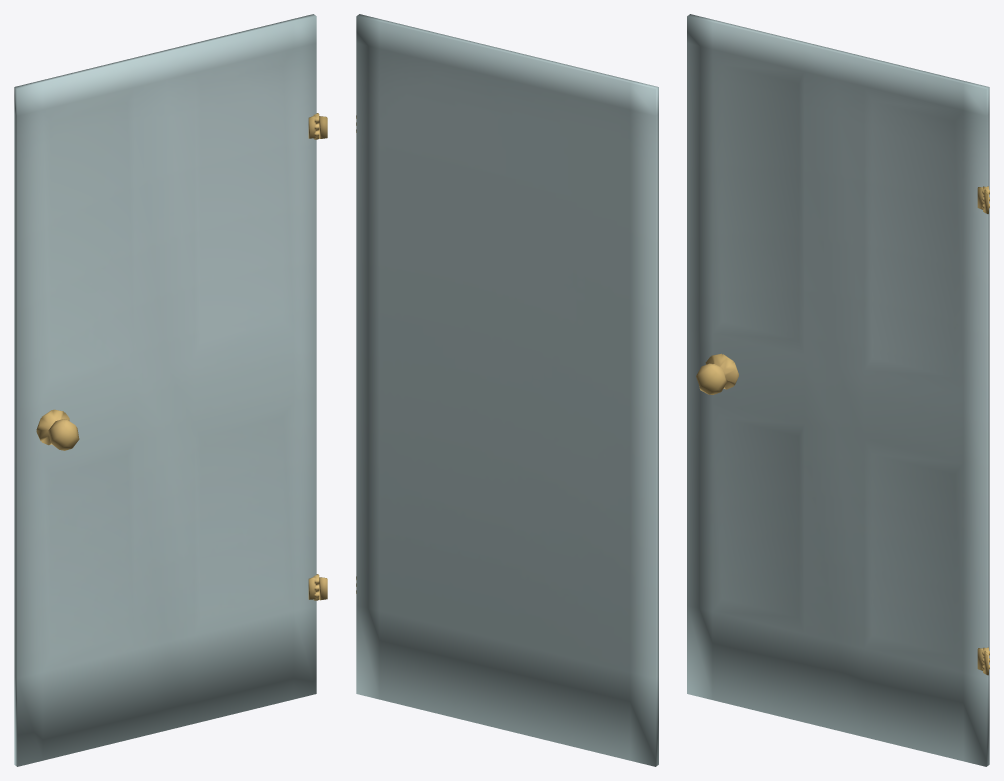
The model's file is Door.fbx.
The picture shows the model from 3 angles, left to right: view 1: azimuth 30°, elevation 25°; view 2: azimuth 150°, elevation 25°; view 3: azimuth 330°, elevation 25°; orthographic projection.
Parts seen in each view (by area): view 1: Door; view 2: Door; view 3: Door.
Part boxes in pixels (x1,y1,x2,y2): Door: (14,14,327,766); Door: (356,14,658,766); Door: (687,14,989,766).
Size of the model in its own units: 148 by 314 by 18.16.
